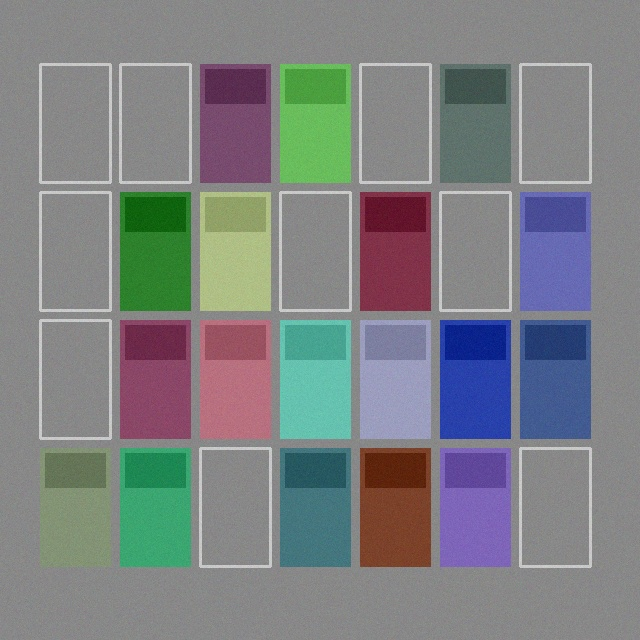space-empty: (40, 64, 110, 182), (120, 64, 190, 182), (360, 64, 430, 182), (520, 64, 590, 182), (40, 192, 110, 310), (280, 192, 350, 310), (440, 192, 510, 310), (40, 320, 110, 438), (200, 448, 270, 566), (520, 448, 590, 566)
space-occupied: (200, 64, 270, 182), (280, 64, 350, 182), (440, 64, 510, 182), (120, 192, 190, 310), (200, 192, 270, 310), (360, 192, 430, 310), (520, 192, 590, 310), (120, 320, 190, 438), (200, 320, 270, 438), (280, 320, 350, 438), (360, 320, 430, 438), (440, 320, 510, 438), (520, 320, 590, 438), (40, 448, 110, 566), (120, 448, 190, 566), (280, 448, 350, 566), (360, 448, 430, 566), (440, 448, 510, 566)
